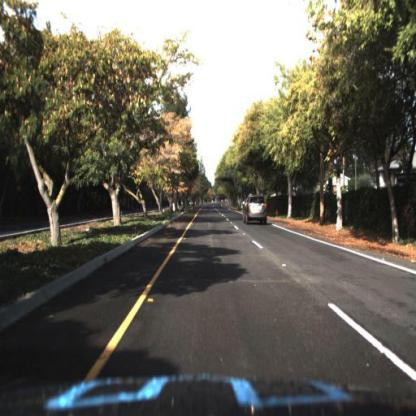car: (243, 195, 269, 227)
